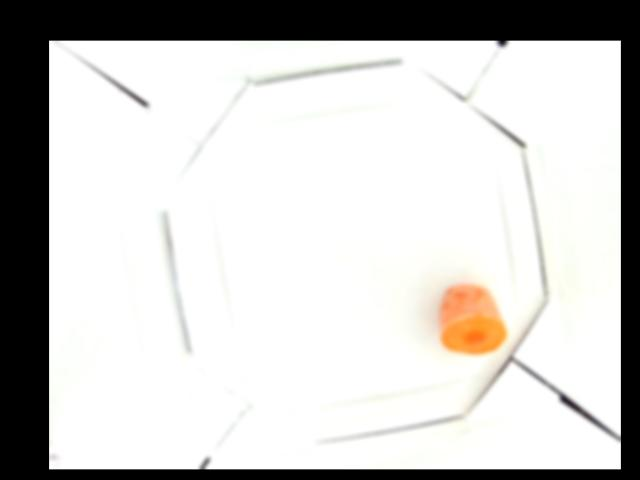Carrot: (437, 283, 508, 355)
